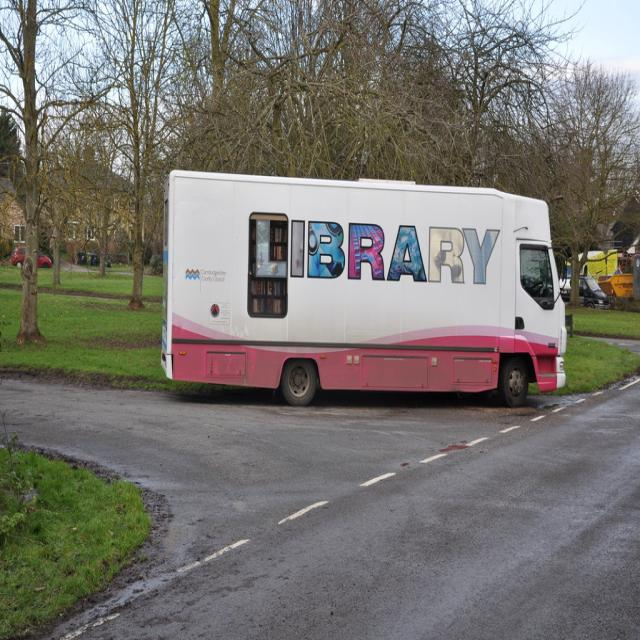Buses: (158, 170, 570, 408)
